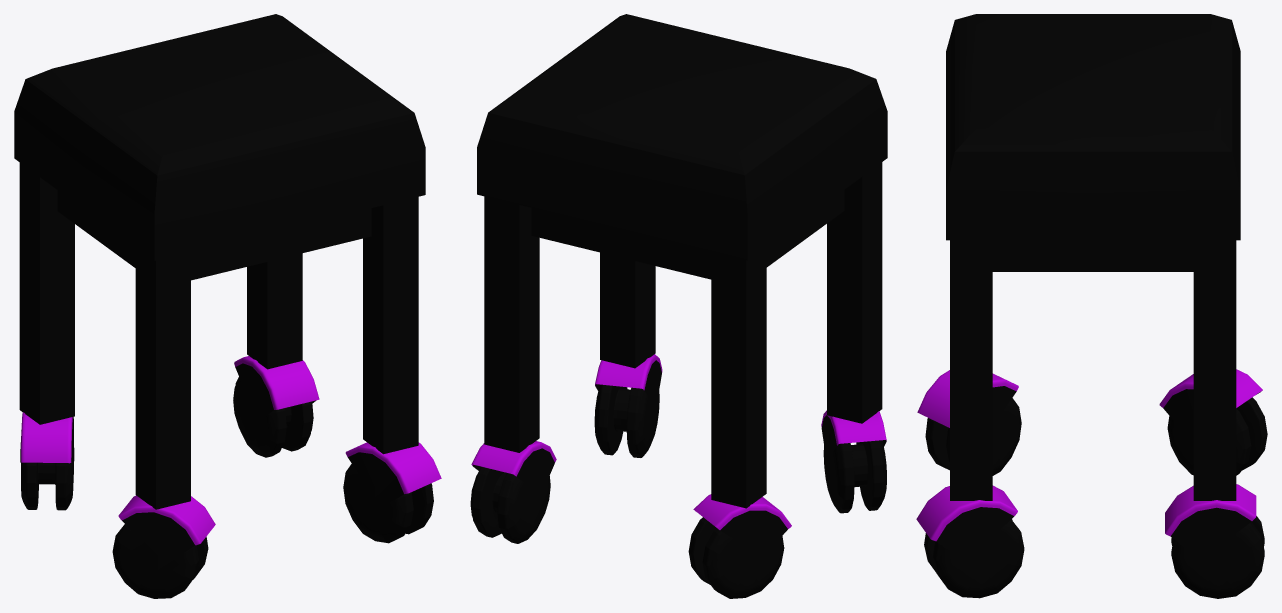
File: medicalchair.fbx
The picture shows the model from 3 angles, left to right: view 1: azimuth 30°, elevation 25°; view 2: azimuth 150°, elevation 25°; view 3: azimuth 270°, elevation 25°; orthographic projection. The views are drawn at different scales.
Visible parts, largest first — view 1: medical_chair; view 2: medical_chair; view 3: medical_chair.
Part boxes in pixels (x1=…): medical_chair: x1=14, y1=14, x2=441, y2=598; medical_chair: x1=470, y1=14, x2=887, y2=598; medical_chair: x1=916, y1=14, x2=1267, y2=598.
Bounding box in the file's own units: 0.5949 × 0.8348 × 0.5757.
